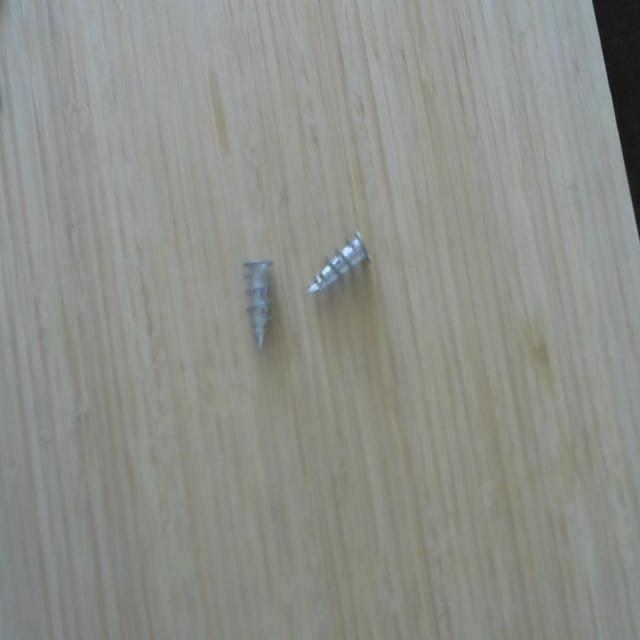Short screw: (300, 221, 377, 304), (238, 258, 279, 359)
